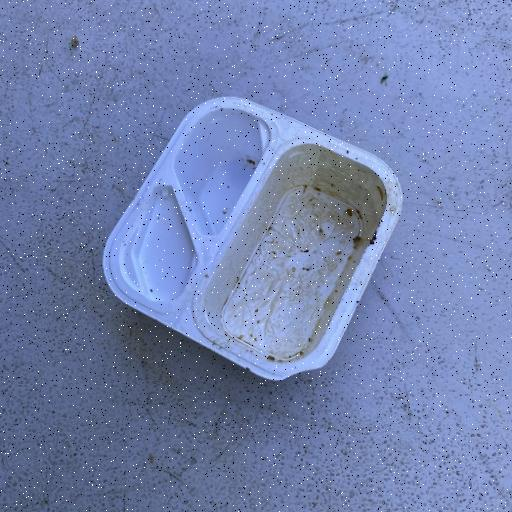Plastic: (100, 94, 404, 383)
